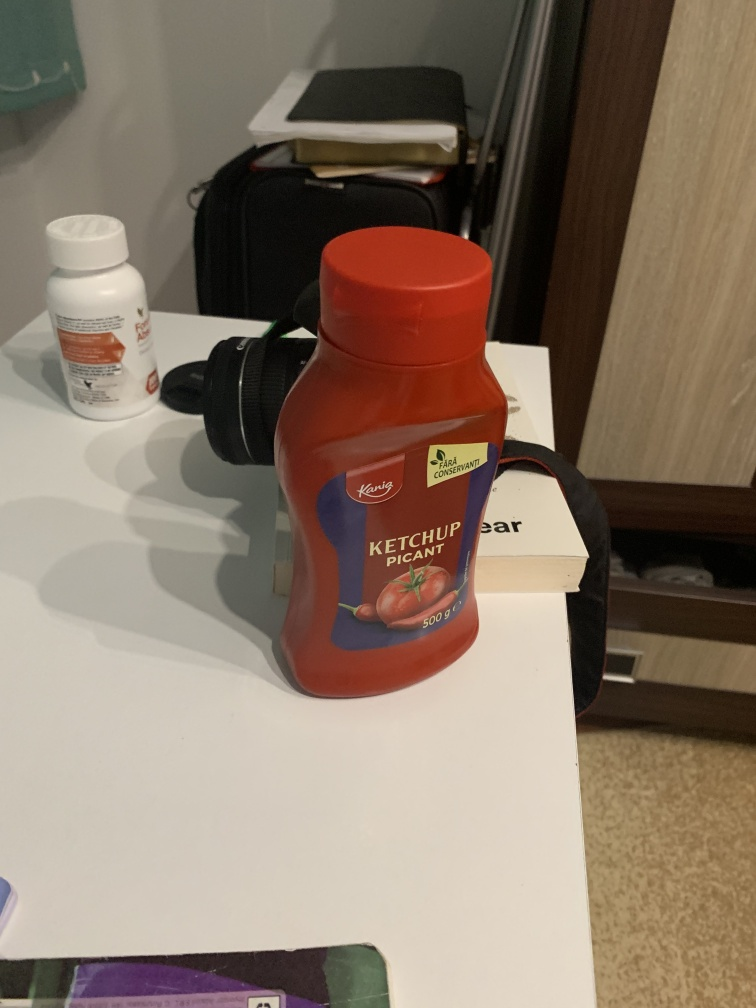ketchup: (272, 222, 508, 696)
